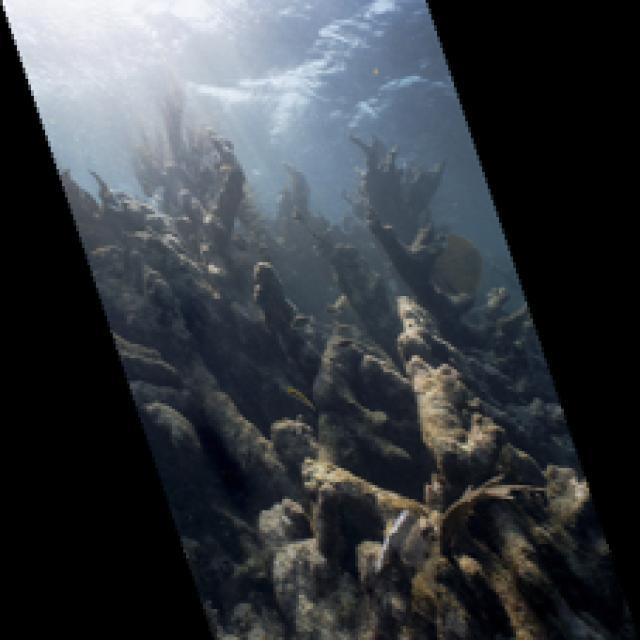Dead Coral: (298, 112, 536, 598), (163, 472, 600, 640), (77, 90, 296, 415), (352, 273, 522, 524)
